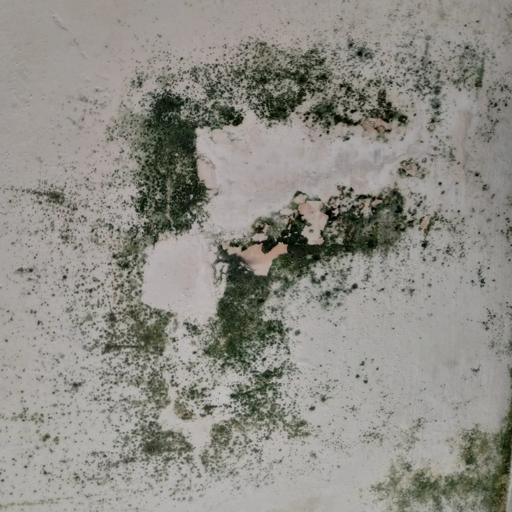algae: (85, 35, 512, 512)
